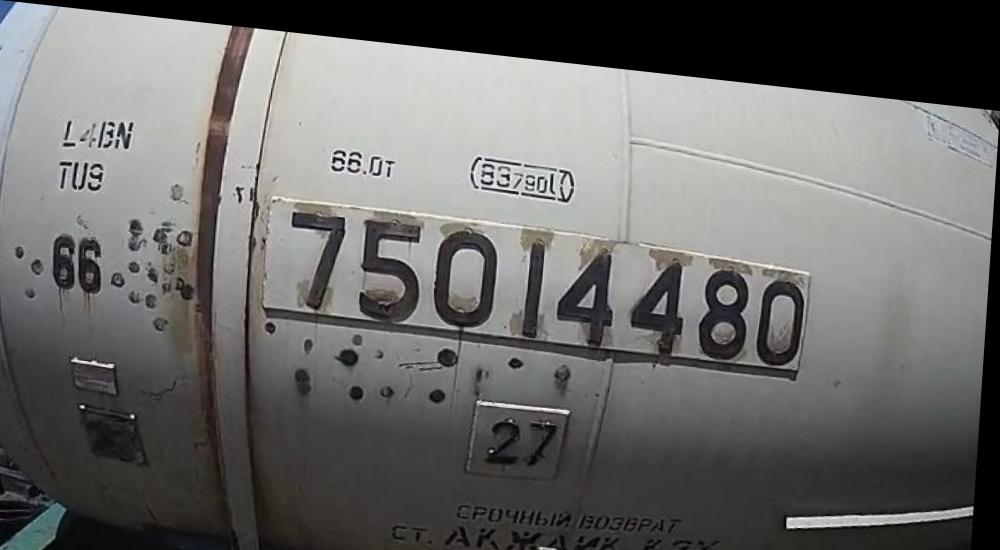Wagon-number: (274, 194, 811, 354)
